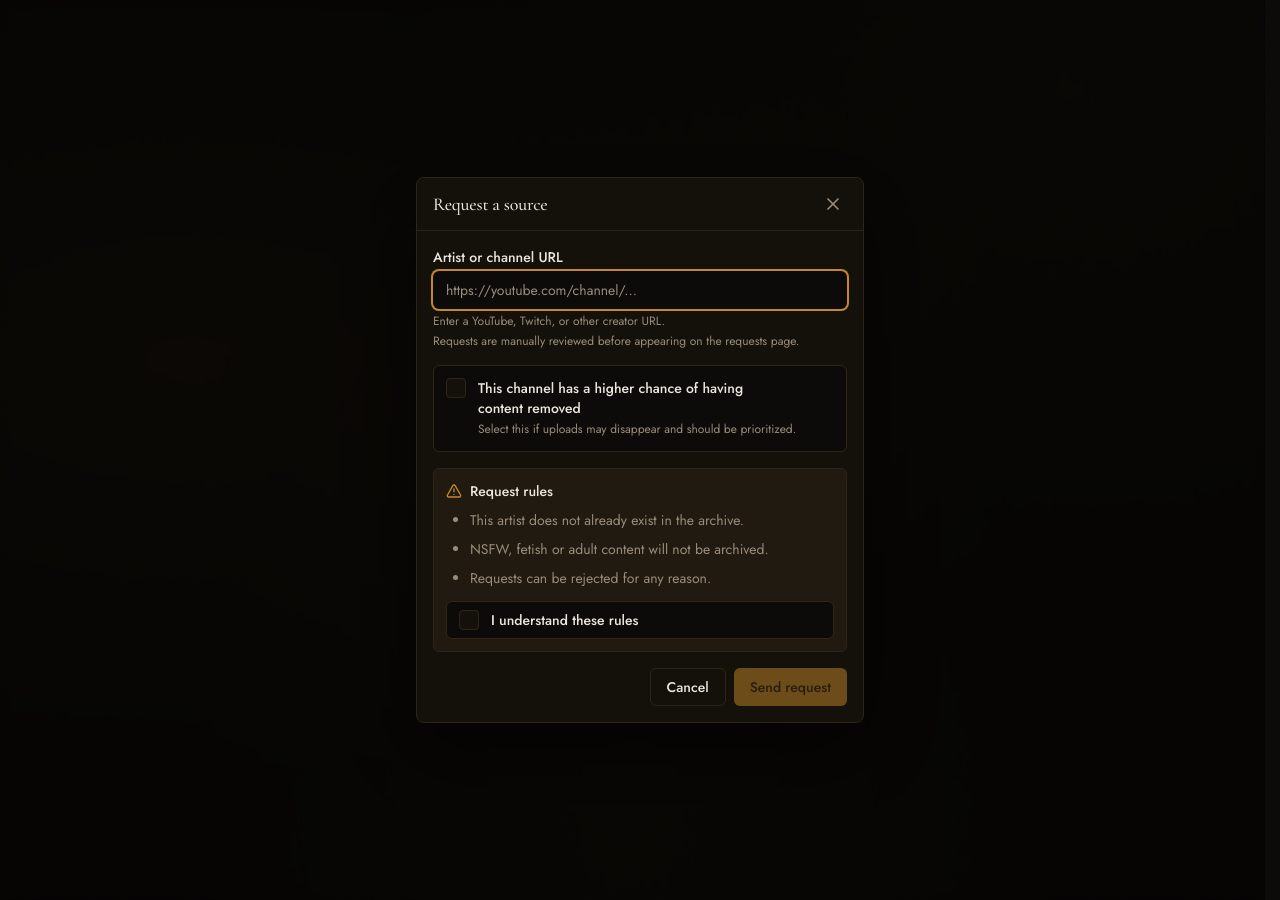
Test case: RequestSourceDialog › shows a friendly message and tracks diagnostics for transport errors
In the field labelled "Artist or channel URL": (640, 290) x1=433 y1=271 x2=847 y2=309, type "https://youtube.com/@example"
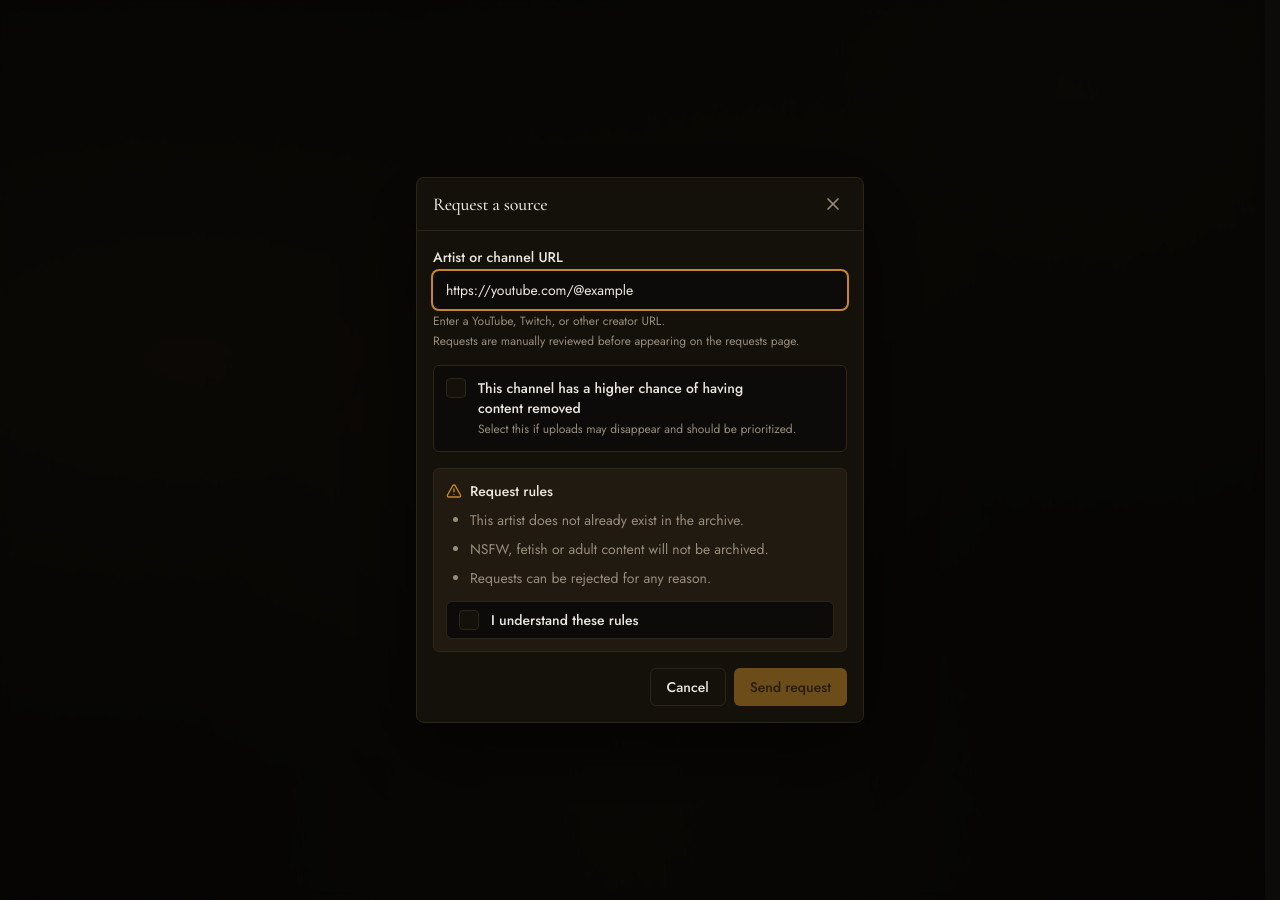
Click the text "I understand these rules": (565, 620) x1=491 y1=610 x2=638 y2=630
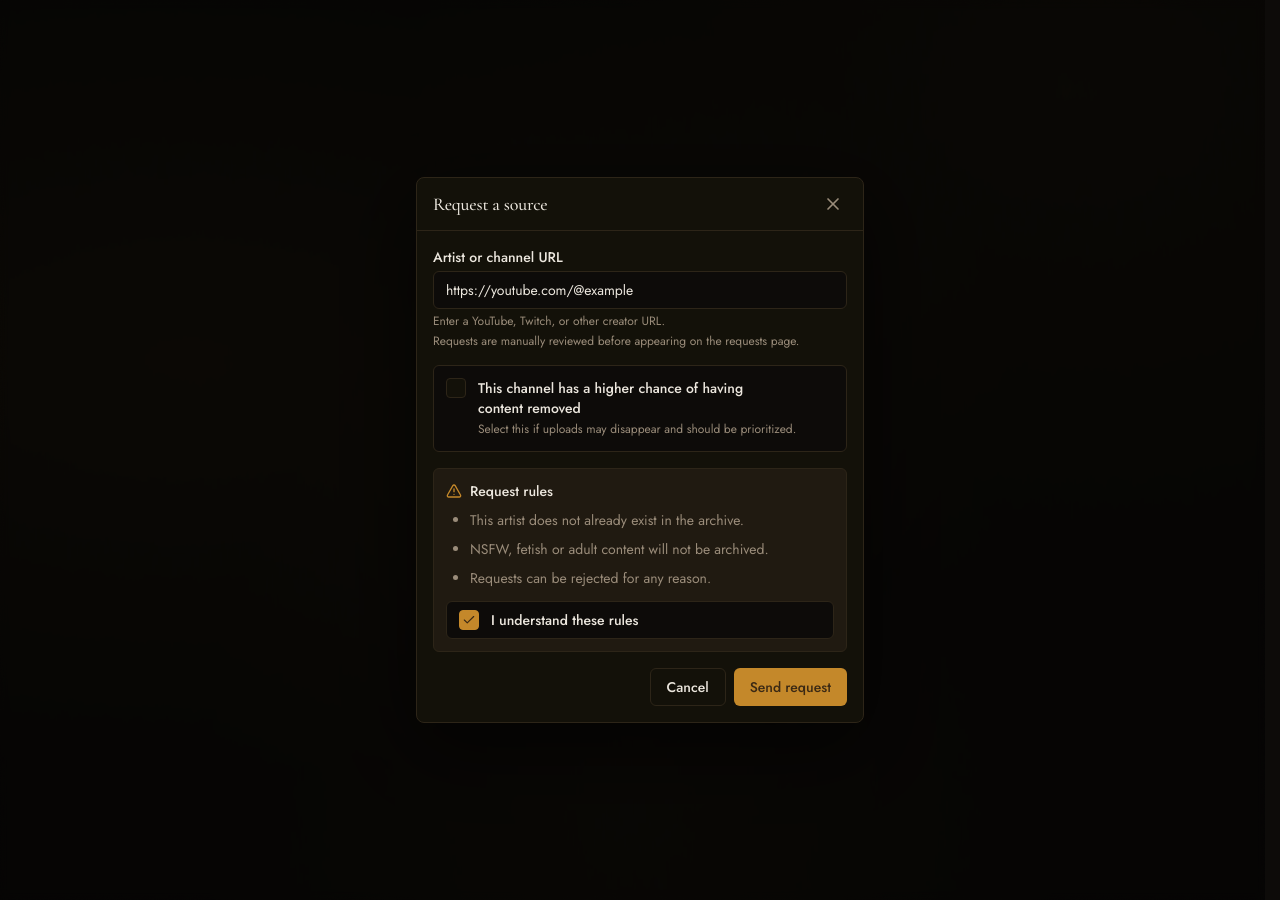
Click the button "Send request": (790, 687) x1=734 y1=668 x2=847 y2=706
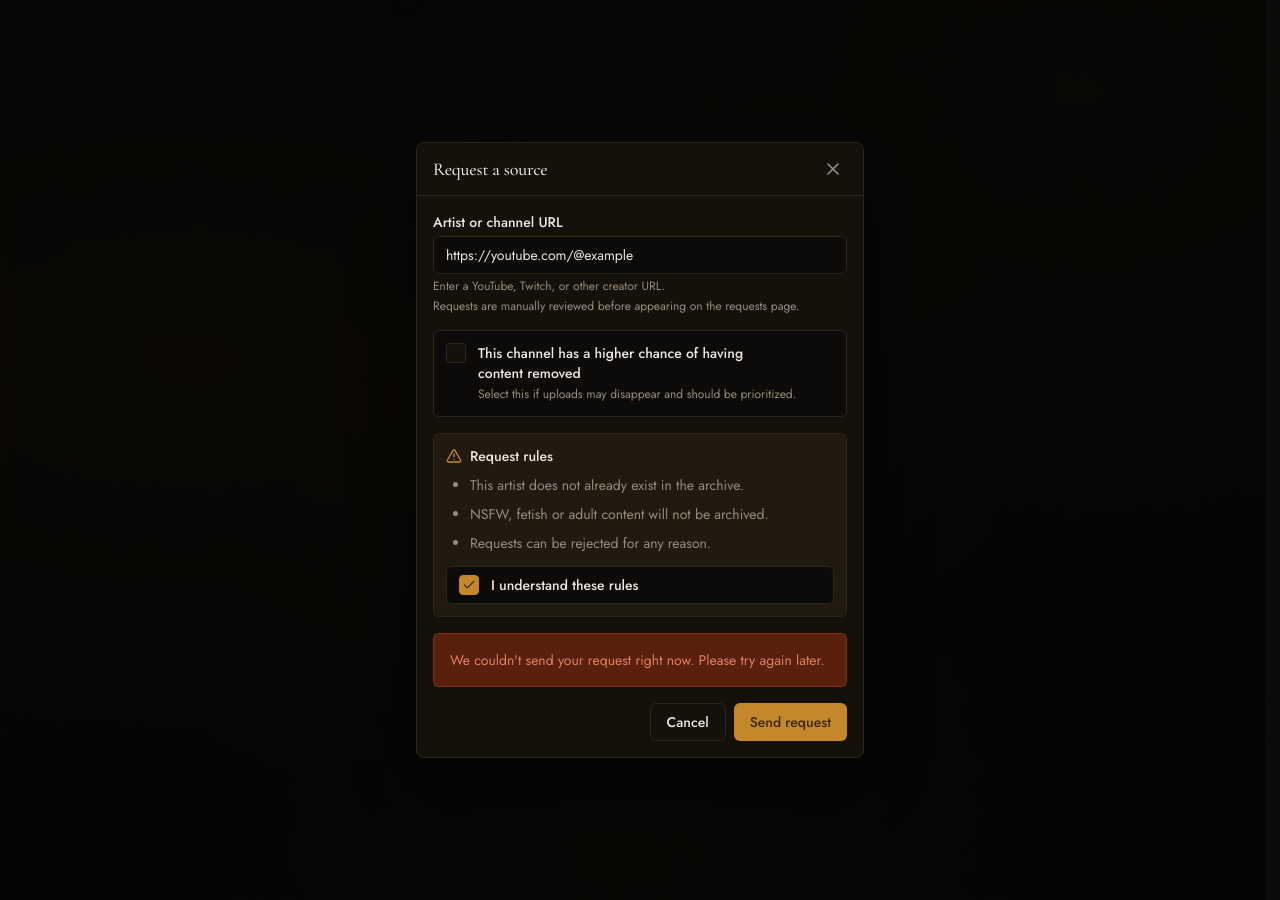
Expected: the text "We couldn't send your request right now. Please try again later." is shown, x1=450 y1=650 x2=830 y2=670
